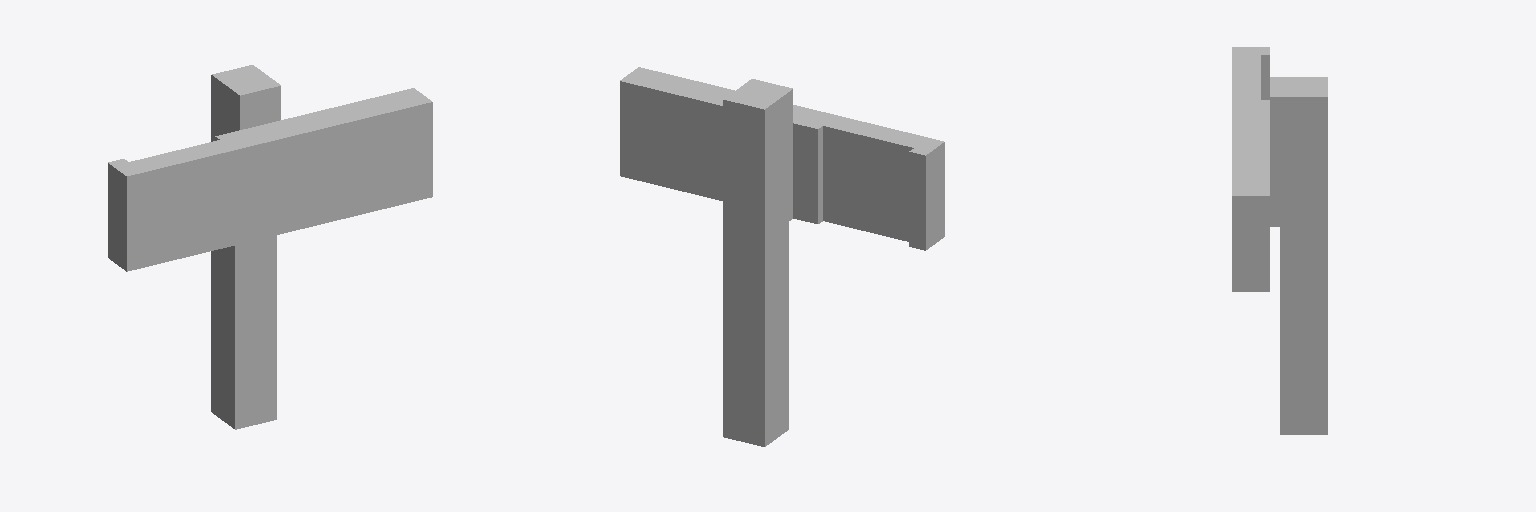
Rendered from Train Arm.obj.
The picture shows the model from 3 angles: view 1: azimuth 30°, elevation 25°; view 2: azimuth 150°, elevation 25°; view 3: azimuth 270°, elevation 25°; orthographic projection.
Visible parts, largest first — view 1: Train Arm; view 2: Train Arm; view 3: Train Arm.
Boxes of the visible parts, box(x1,y1,x2,y2) form: Train Arm: box(108, 65, 432, 429); Train Arm: box(620, 67, 944, 446); Train Arm: box(1232, 47, 1327, 434).
Size of the model in its own units: 37 by 39 by 10.